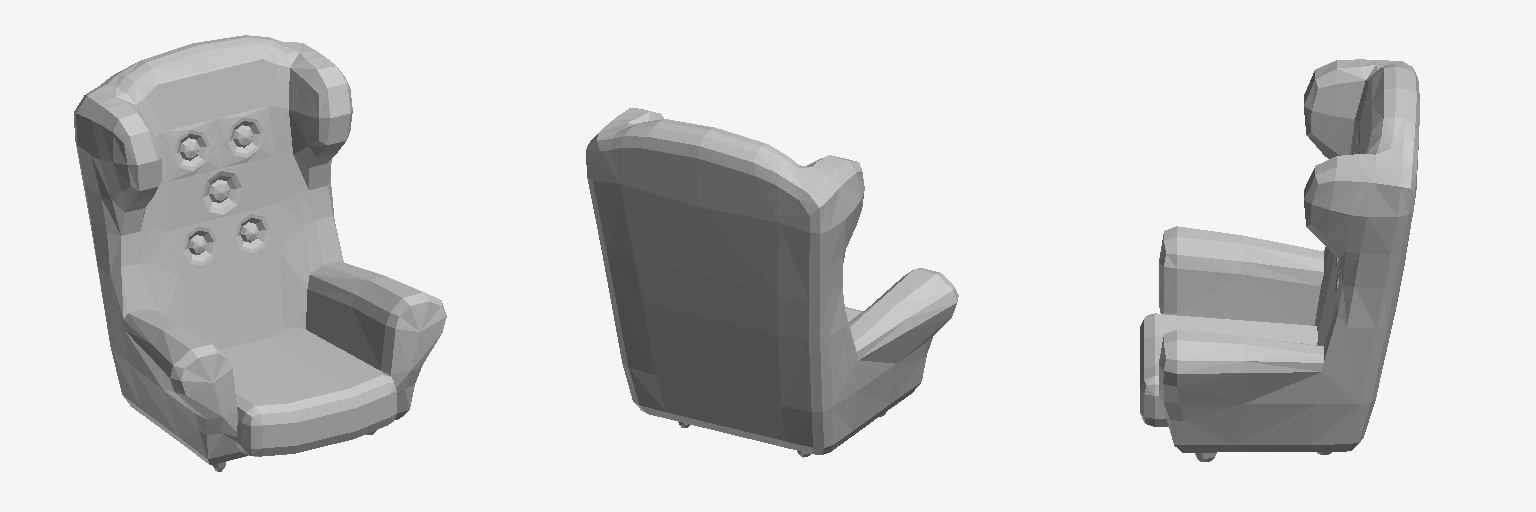
The model's file is chair_large_green.obj.
3 views of the same model, side by side, from view 1: azimuth 30°, elevation 25°; view 2: azimuth 150°, elevation 25°; view 3: azimuth 270°, elevation 25° (orthographic).
Parts seen in each view (by area): view 1: chair_large_green; view 2: chair_large_green; view 3: chair_large_green.
Part boxes in pixels (left/top/right/bottom): chair_large_green: left=74, top=35, right=446, bottom=471; chair_large_green: left=586, top=108, right=958, bottom=457; chair_large_green: left=1140, top=59, right=1419, bottom=461.
Size of the model in its own units: 1.83 by 2.14 by 1.61.